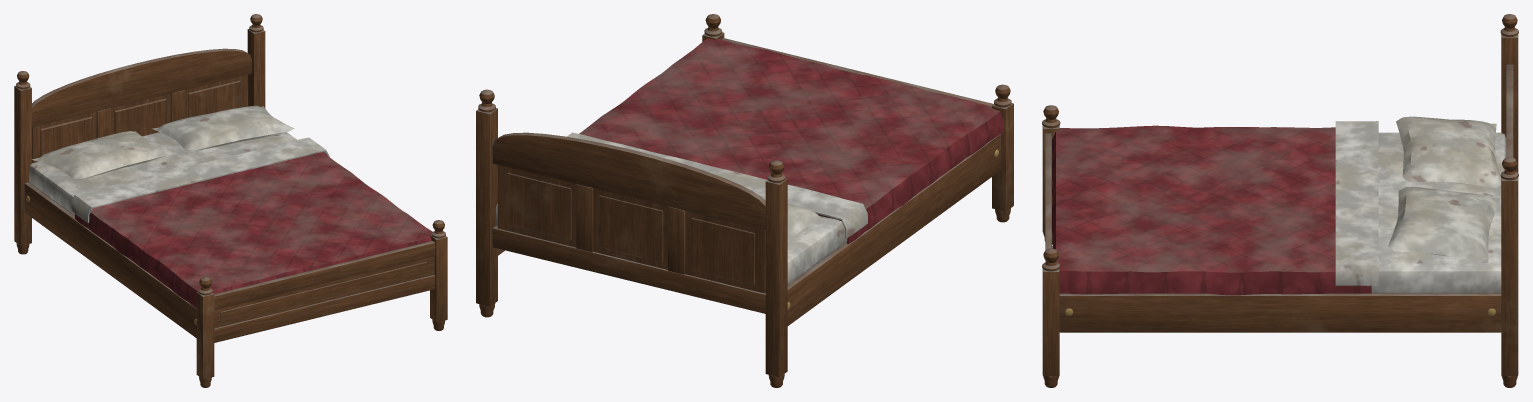
Rendered from cama_casal.glb.
3 views of the same model, side by side, from view 1: azimuth 30°, elevation 25°; view 2: azimuth 150°, elevation 25°; view 3: azimuth 270°, elevation 25° (orthographic). The views are drawn at different scales.
Visible parts, largest first — view 1: roupa_de_cama, estrutura; view 2: estrutura, roupa_de_cama; view 3: roupa_de_cama, estrutura.
Part boxes in pixels (box(x1,y1,x2,y2)): roupa_de_cama: box(29, 105, 432, 308); estrutura: box(14, 14, 447, 387); estrutura: box(476, 14, 1013, 387); roupa_de_cama: box(496, 38, 1003, 284); roupa_de_cama: box(1052, 116, 1506, 295); estrutura: box(1042, 14, 1518, 387).
Bounding box in the file's own units: 1.49 × 1.05 × 1.99.
Materials: 2 (2 with a texture image).
